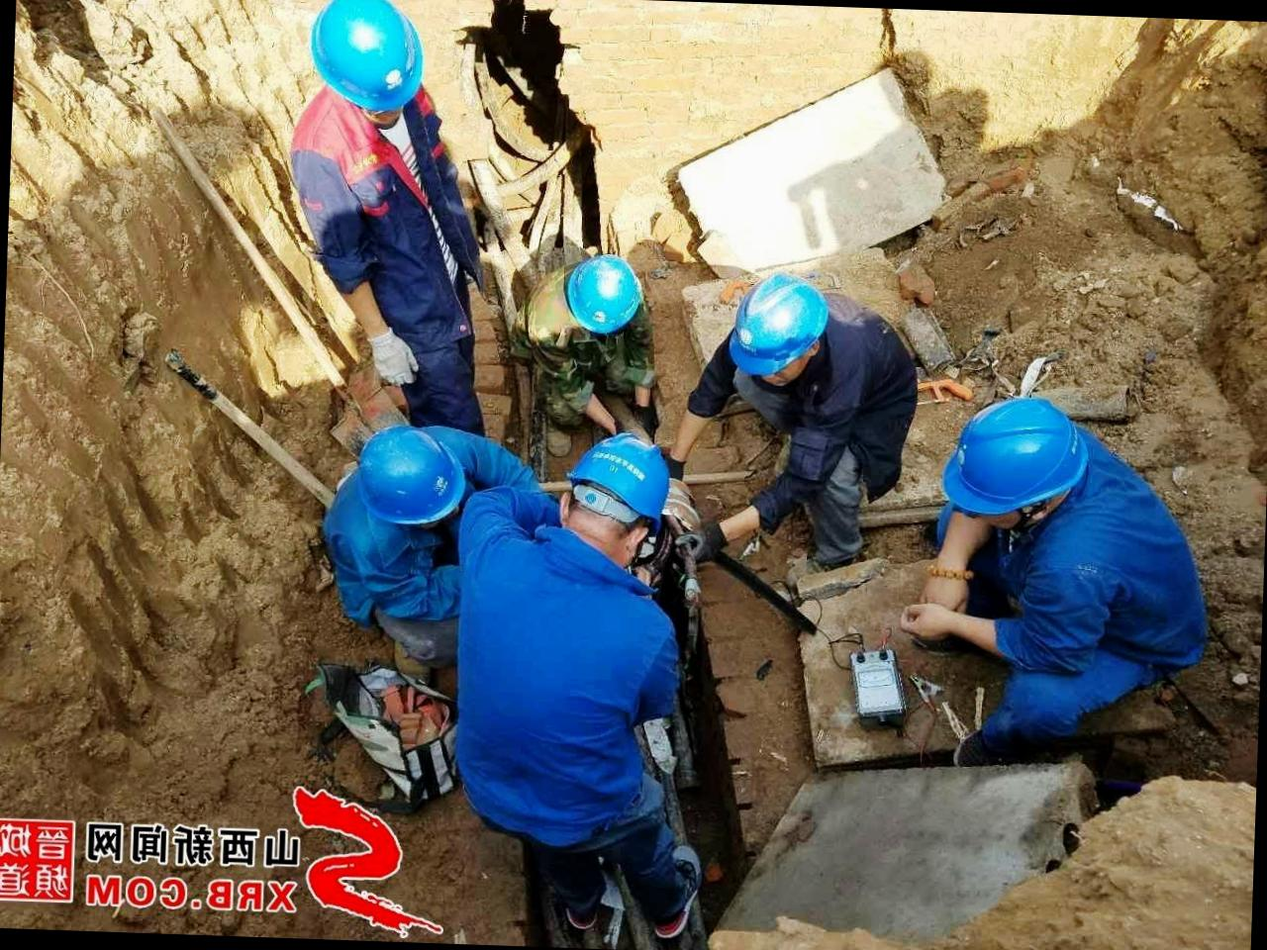helmet: (931, 382, 1081, 527), (299, 4, 431, 110), (348, 425, 476, 529), (725, 274, 833, 389), (561, 429, 683, 528), (553, 244, 650, 353)
no_vest: (441, 547, 670, 859), (301, 123, 470, 378)
person: (439, 408, 687, 950), (917, 359, 1207, 789), (278, 0, 481, 429), (699, 272, 913, 608)
